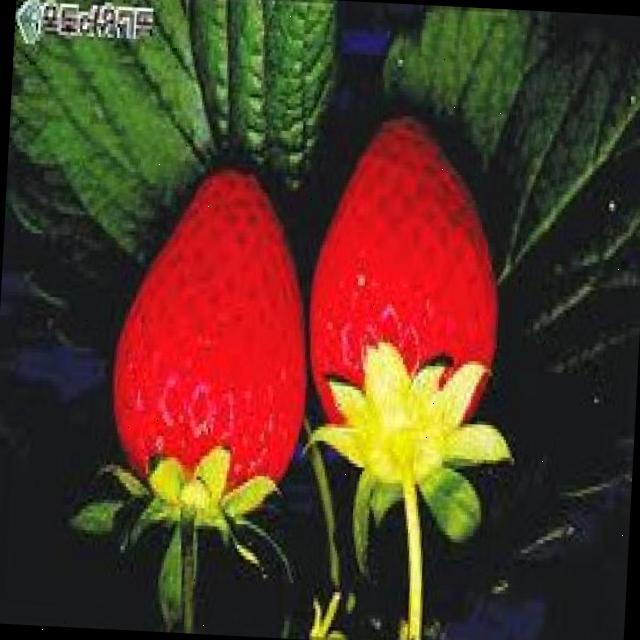strawberry: (108, 162, 320, 502), (303, 111, 507, 435)
